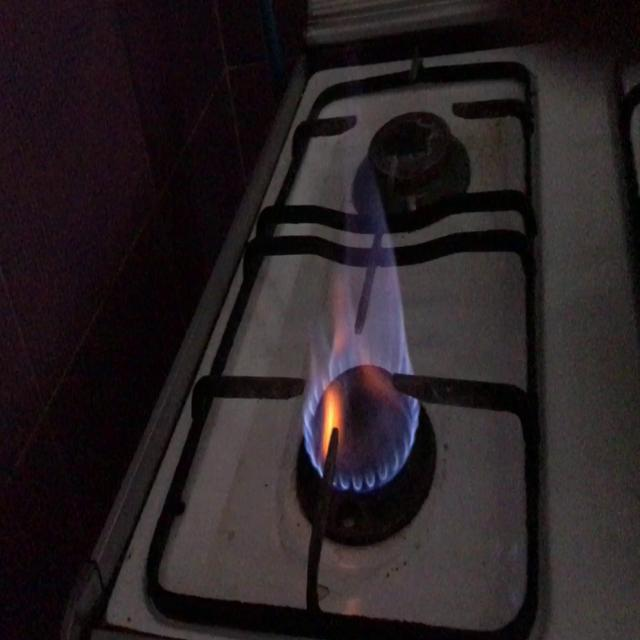fire: (290, 152, 408, 539)
